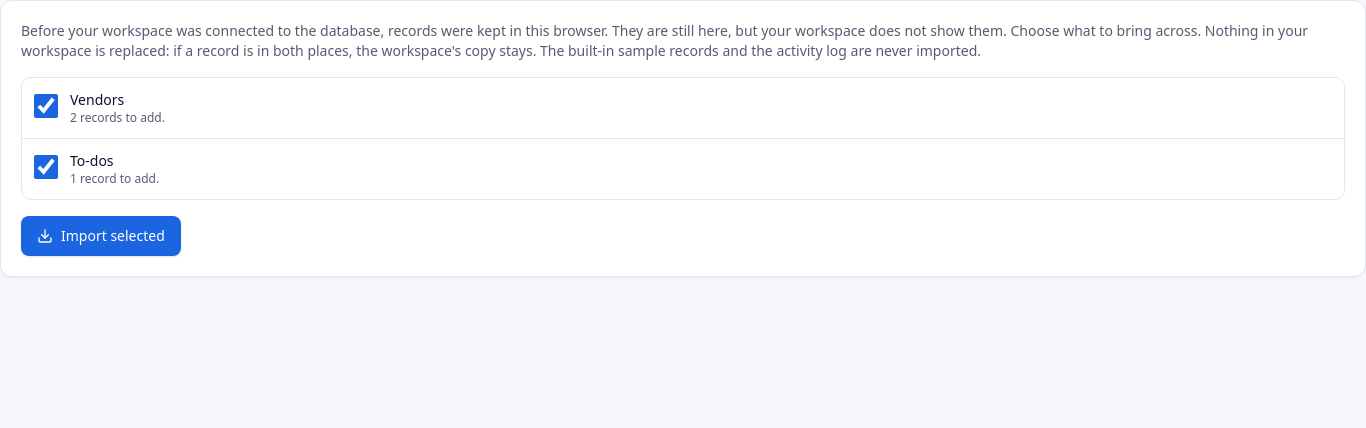
Test: Import from this browser › imports what is ticked, reports it, and can then remove the old copy
Later steps or results of the test are not shown.
Click the checkbox labelled "To-dos 1 record to add." at [46, 167], box [34,155,58,179]
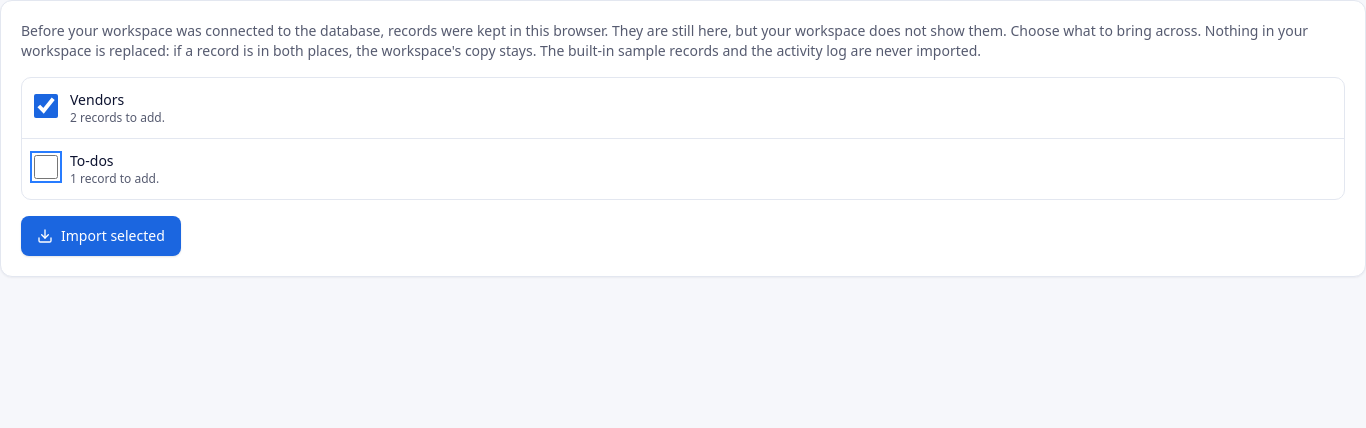
Click the button with test id "import-run" at [101, 236], box [21,216,181,256]
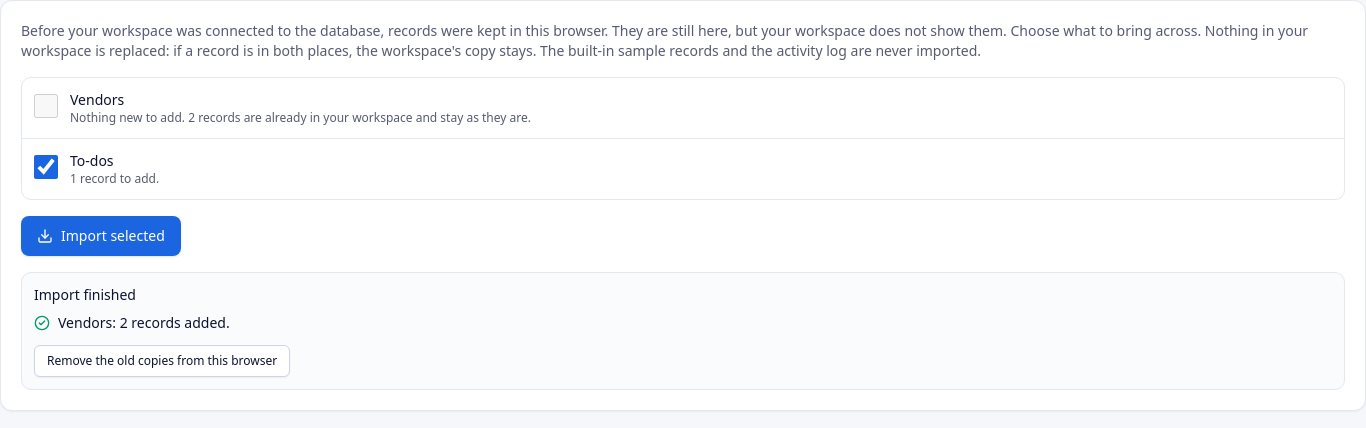
Expected: the element with test id "import-result" does not show "To-dos"
Expected: the message with test id "import-result" shows "Vendors: 2 records added", [21,272,1345,390]
